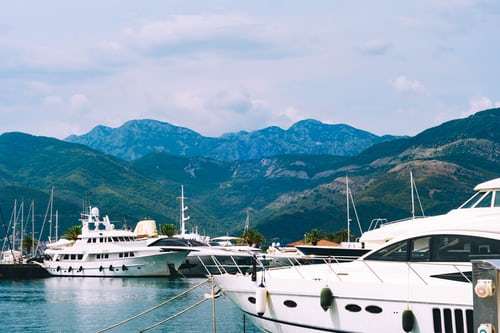yacht: (41, 203, 202, 285)
